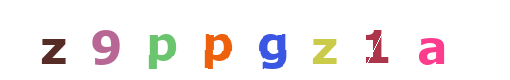1: (278, 0, 358, 80)
9: (120, 0, 200, 80)
A: (332, 0, 412, 80)
G: (217, 0, 297, 80)
P: (176, 0, 256, 80), (210, 0, 290, 80)
Z: (13, 0, 93, 80), (233, 0, 313, 80)
